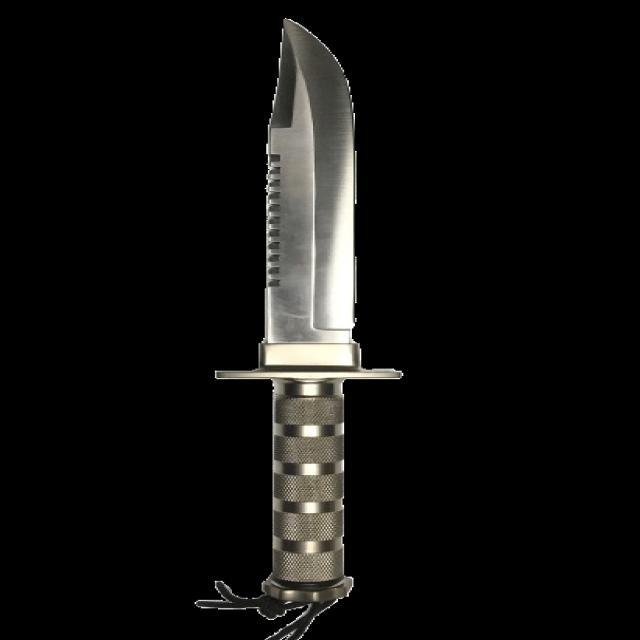knife: (198, 20, 412, 611)
